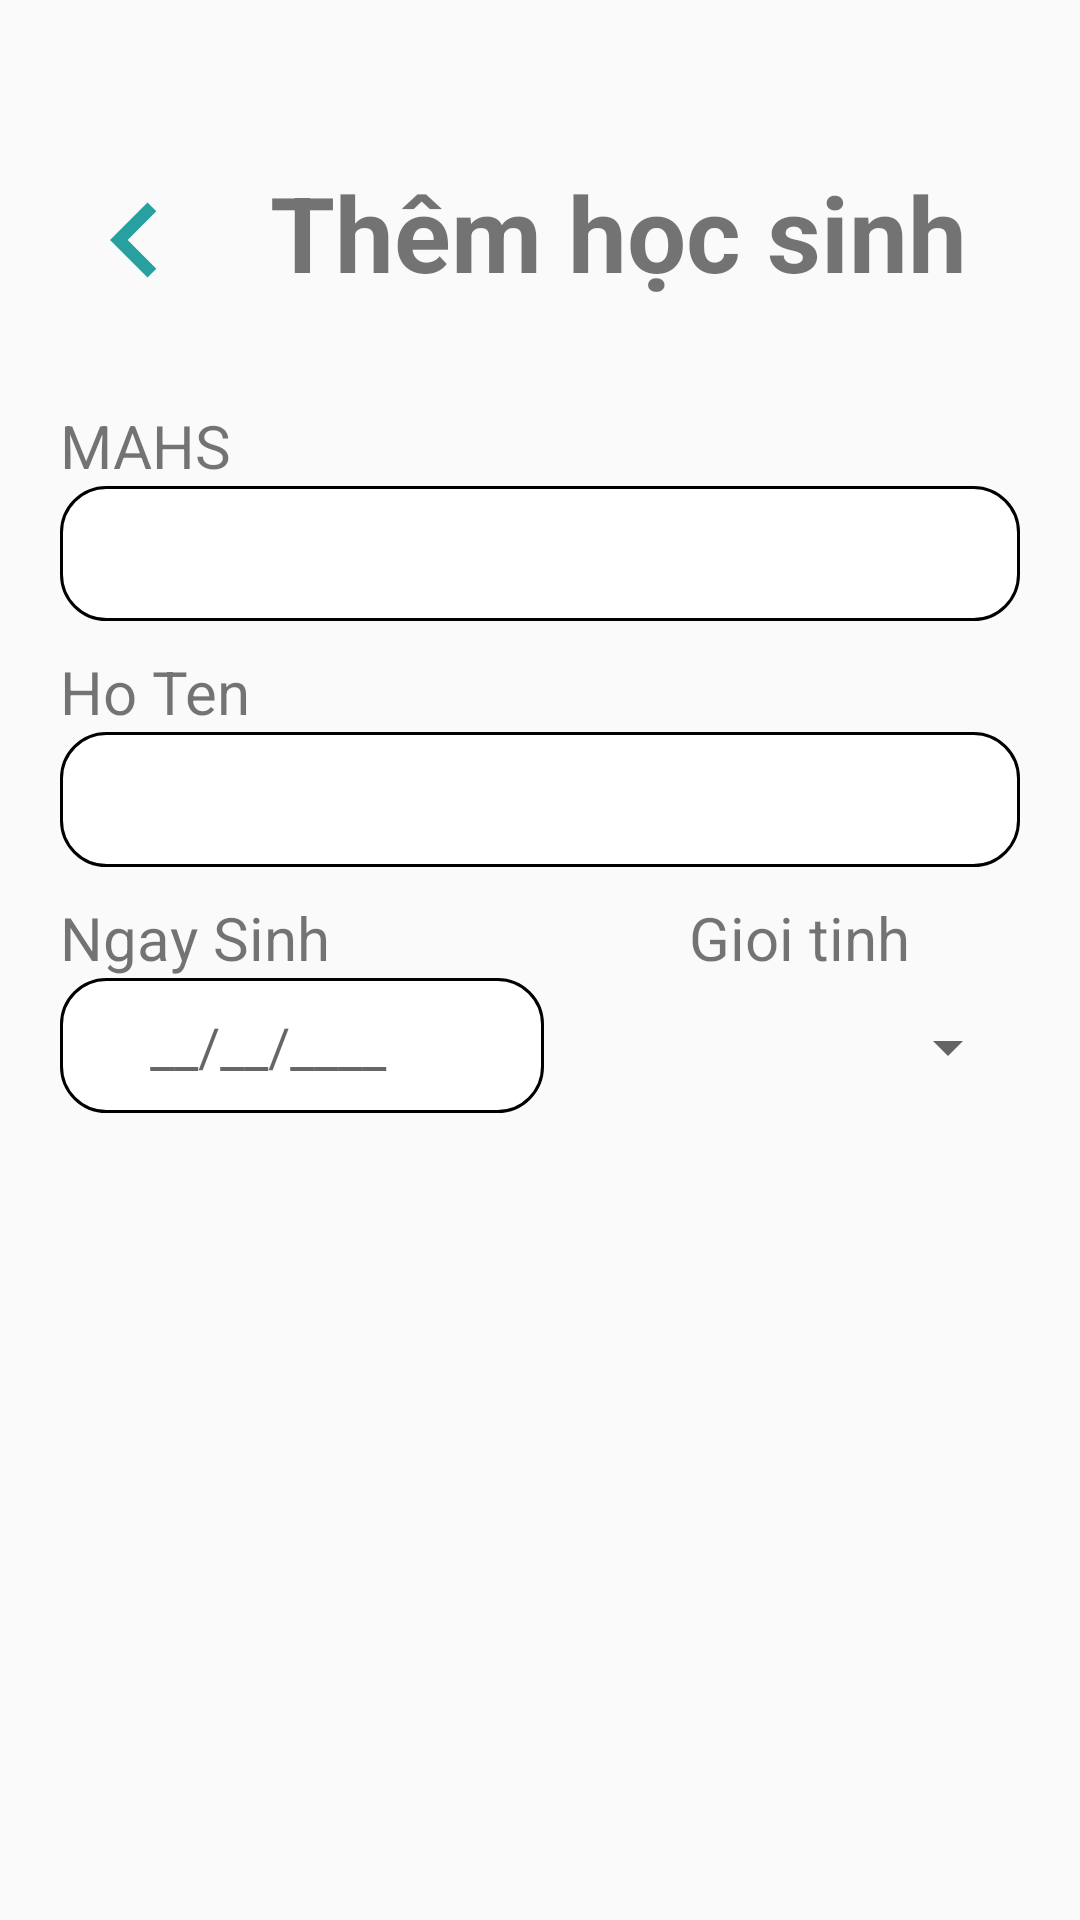

Icon click points for this 1080*1920 phone screenshot, format [x,y]:
turnback: [133,240]
